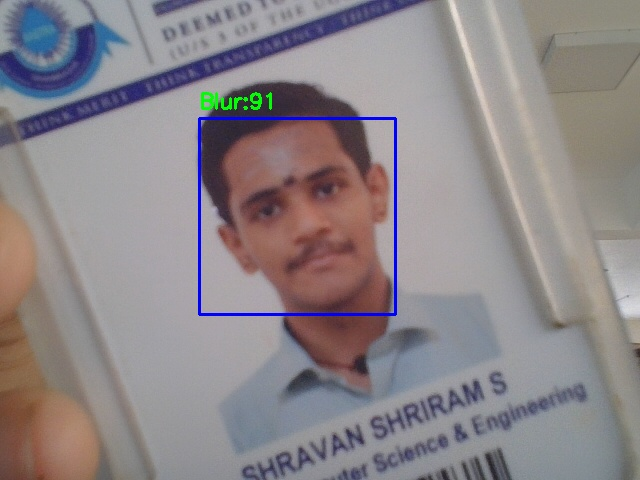fake: (199, 118, 395, 314)
